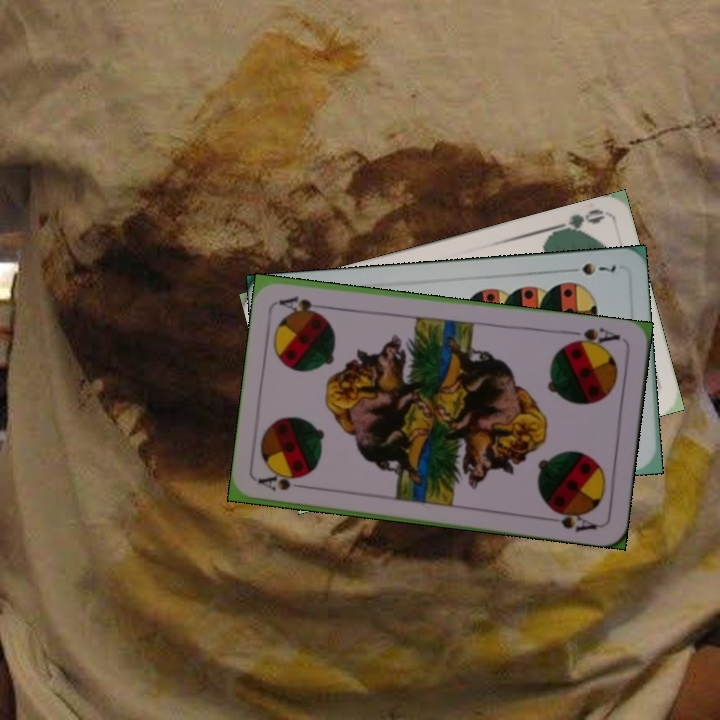GO: (547, 204, 606, 239)
S7: (578, 258, 619, 278)
SA: (564, 323, 623, 351), (255, 471, 314, 494)
